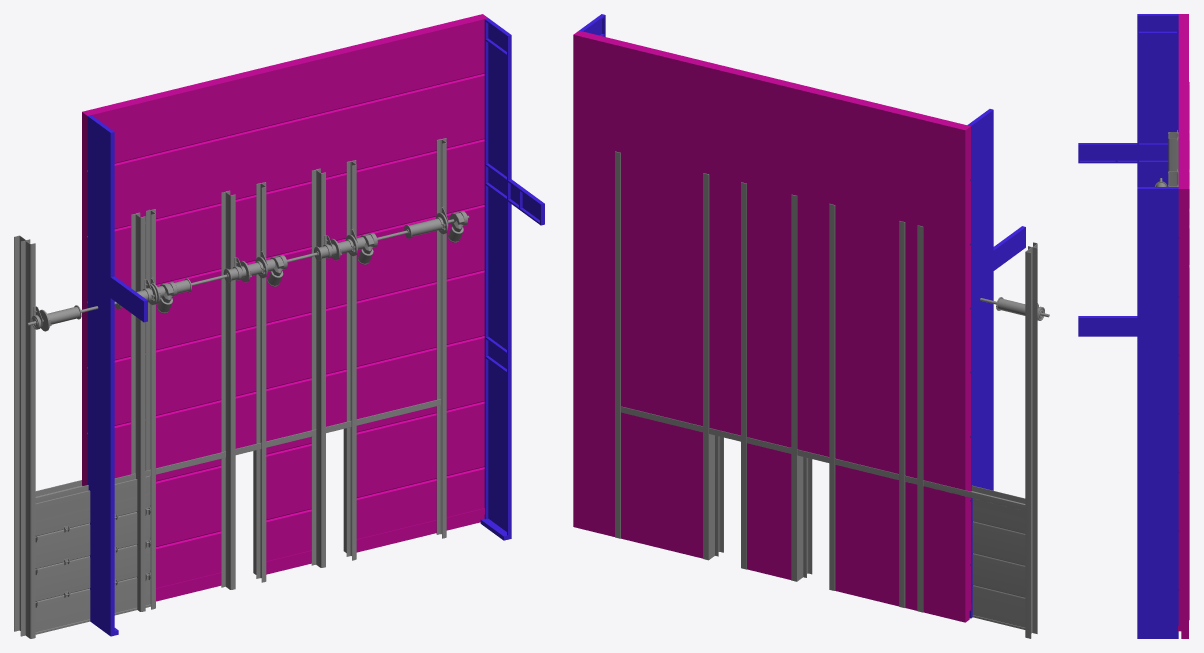
The model's file is DockDoor.glb.
3 views of the same model, side by side, from view 1: azimuth 30°, elevation 25°; view 2: azimuth 150°, elevation 25°; view 3: azimuth 270°, elevation 25° (orthographic). The views are drawn at different scales.
Visible parts, largest first — view 1: DockDoor_Wall_B, DockDoor_Wall_A, Frame, Door; view 2: DockDoor_Wall_B, DockDoor_Wall_A, Frame, Door; view 3: DockDoor_Wall_B, DockDoor_Wall_A, Frame.
Part boxes in pixels (left/top/right/bottom): DockDoor_Wall_B: left=82, top=14, right=544, bottom=636; DockDoor_Wall_A: left=82, top=19, right=484, bottom=601; Frame: left=14, top=209, right=177, bottom=638; Door: left=35, top=475, right=150, bottom=634; DockDoor_Wall_B: left=573, top=14, right=1025, bottom=622; DockDoor_Wall_A: left=573, top=35, right=970, bottom=617; Frame: left=899, top=221, right=1049, bottom=638; Door: left=972, top=498, right=1025, bottom=629; DockDoor_Wall_B: left=1078, top=14, right=1189, bottom=638; DockDoor_Wall_A: left=1168, top=22, right=1189, bottom=472; Frame: left=1154, top=82, right=1189, bottom=186.
Bounding box in the file's own units: 11.74 × 12 × 2.7.
